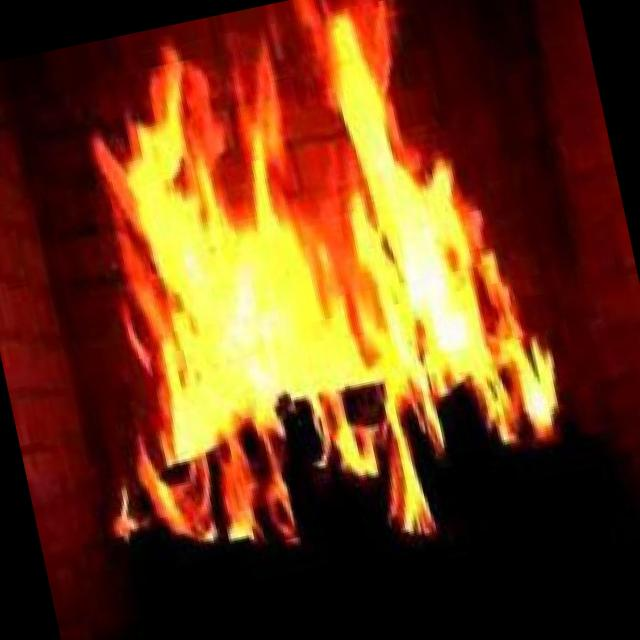Fire: (12, 0, 588, 597)
